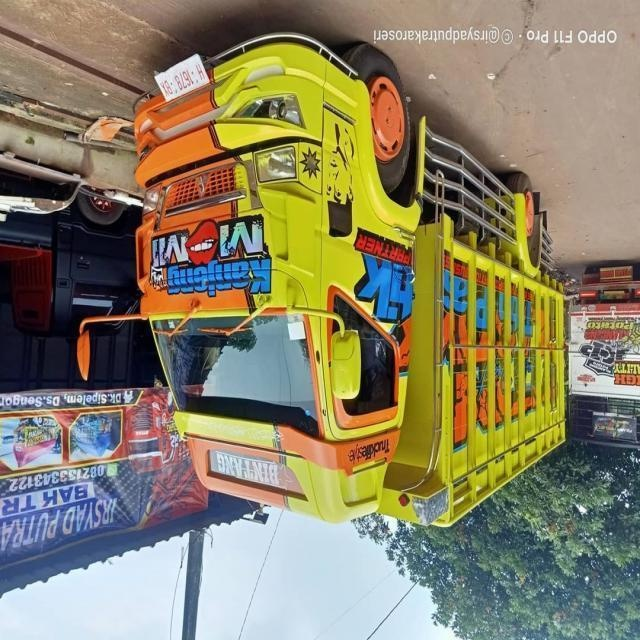Truck: (73, 35, 570, 532), (564, 252, 640, 405)
